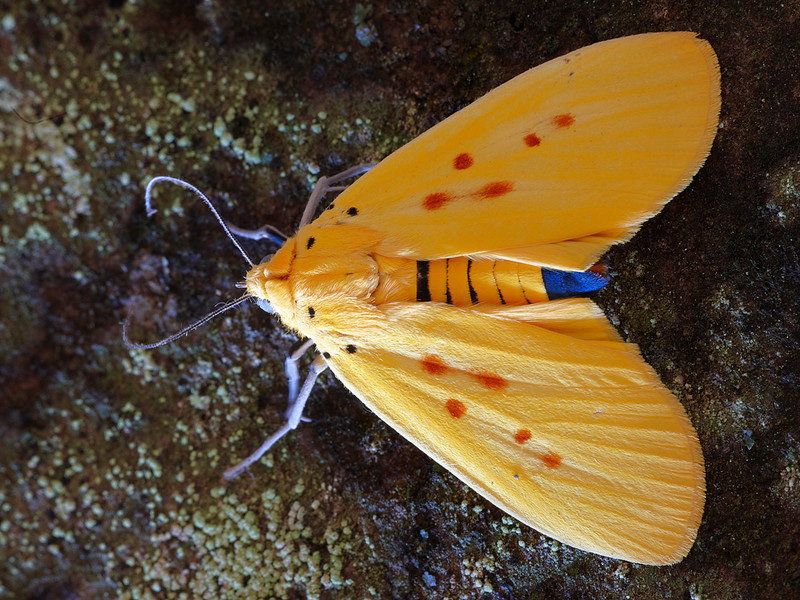Agape chloropyga: (122, 28, 723, 568)
moth: (124, 30, 725, 570)
